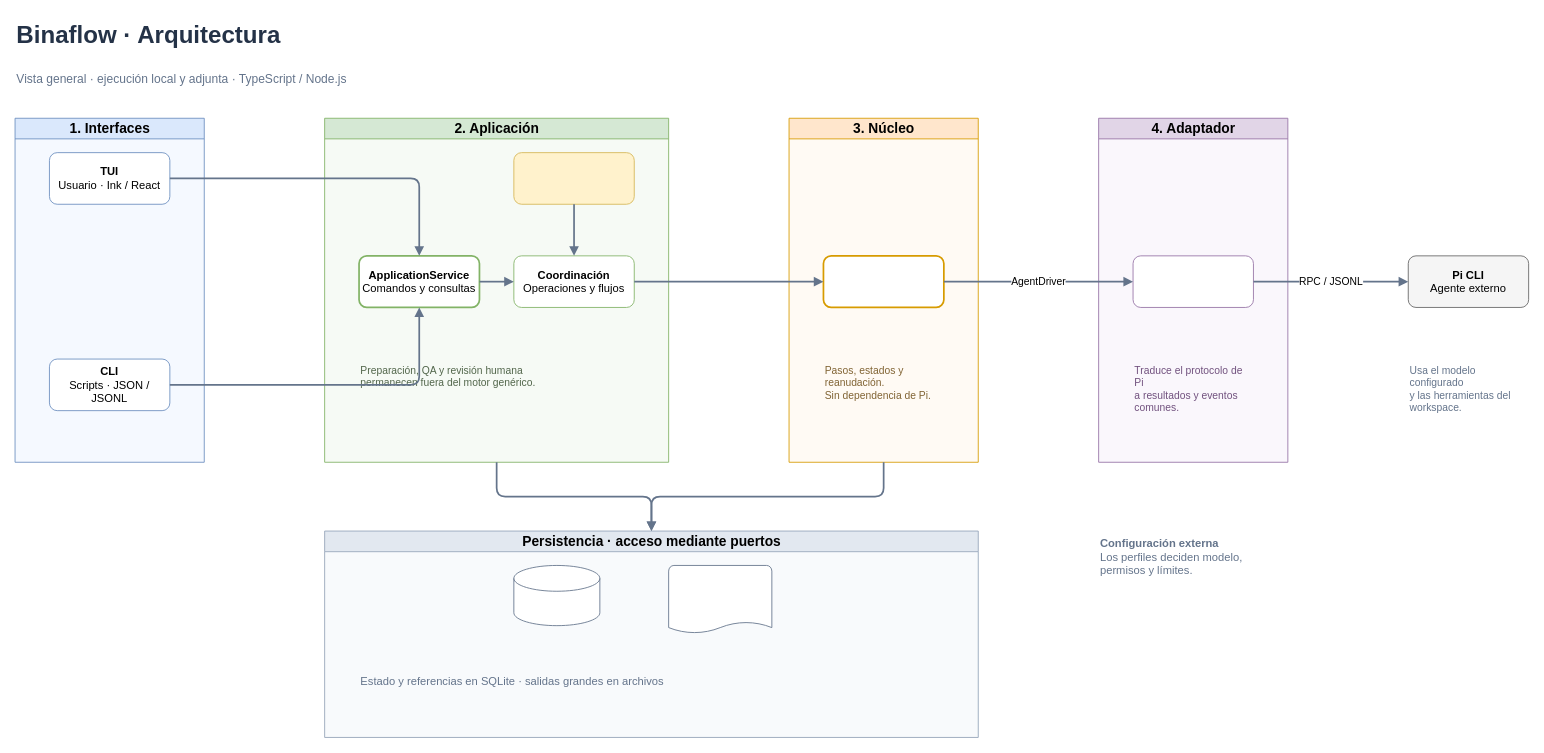
This 1544x753 diagram has some shape labels left out. The centre of each missing label's shape, as x and y in pixels:
Artefactos JSON y texto: (720,599)
Motor de workflows Engine + Runtime: (883,281)
PiDriver Transporte JSONL: (1192,281)
SQLite runs.db: (556,595)
Workflows Catálogo versionado: (573,178)
